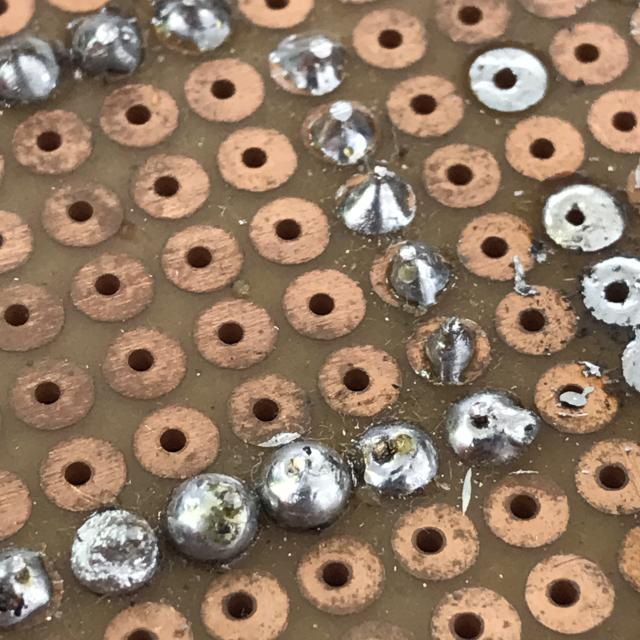excess: (161, 470, 263, 574), (258, 434, 352, 538)
hole: (438, 383, 544, 474), (344, 416, 444, 507)
pad_less: (402, 310, 498, 394), (363, 232, 454, 315), (266, 26, 354, 104), (297, 94, 387, 170), (334, 164, 420, 238)
